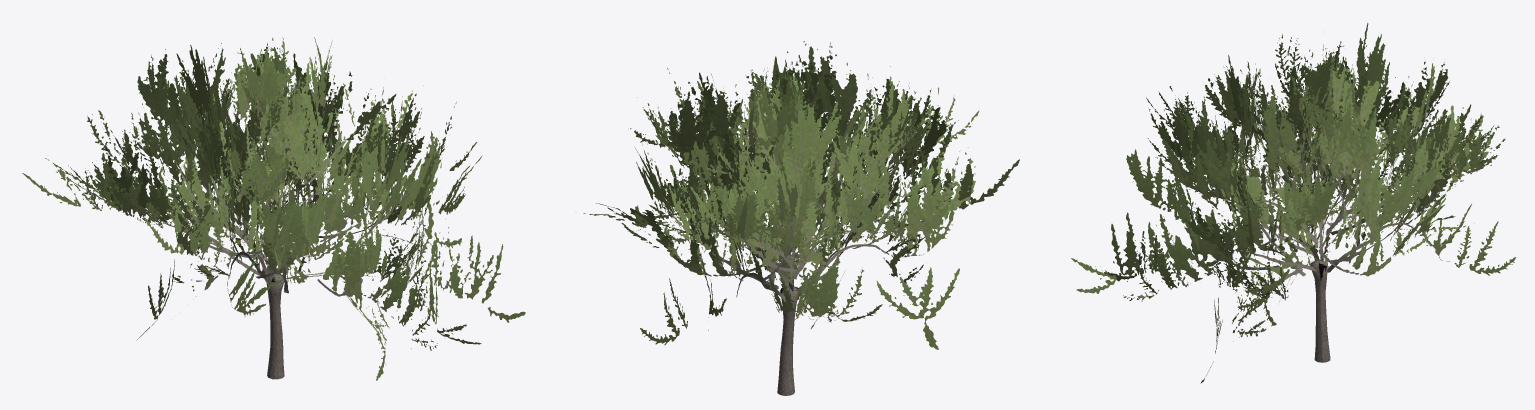
File: tamaris-a.glb
The picture shows the model from 3 angles, left to right: view 1: azimuth 30°, elevation 25°; view 2: azimuth 150°, elevation 25°; view 3: azimuth 270°, elevation 25°; orthographic projection. The views are drawn at different scales.
Parts seen in each view (by area): view 1: tamaris-a; view 2: tamaris-a; view 3: tamaris-a.
Boxes of the visible parts, x1,y1,x2,y2 form: tamaris-a: (22,37,525,380); tamaris-a: (583,41,1019,395); tamaris-a: (1071,23,1515,383).
Bounding box in the file's own units: 4.23 × 3.65 × 4.67.
2 materials, 2 textured.
